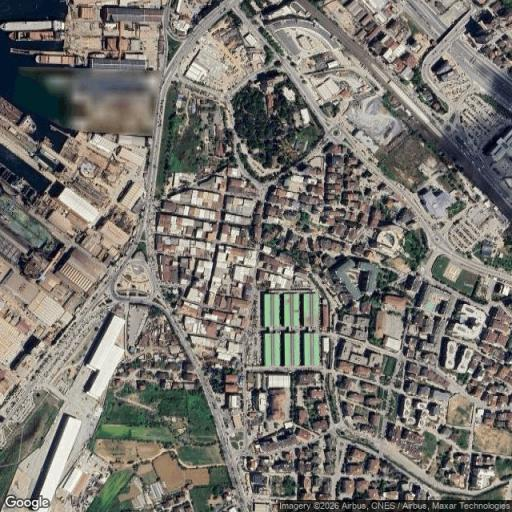ship: (1, 189, 56, 257), (0, 161, 39, 203), (0, 96, 36, 135), (36, 52, 83, 67), (0, 20, 63, 31), (8, 31, 60, 40)
